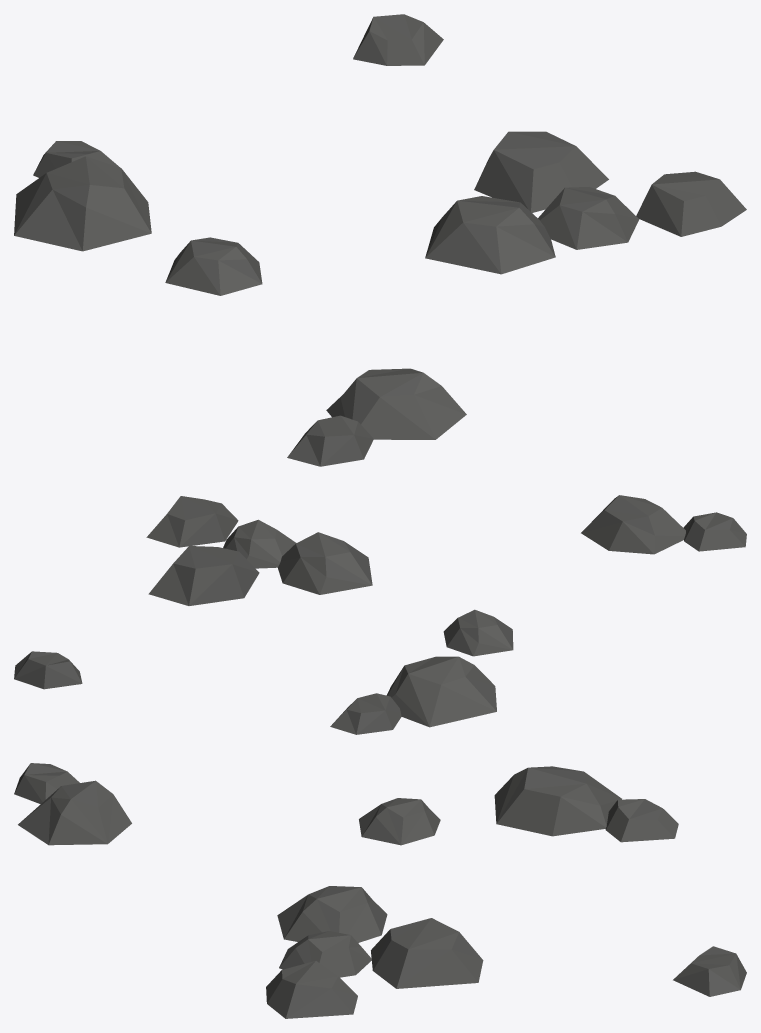
The model's file is SM_Generic_Small_Rocks_01.glb.
3 views of the same model, one above another, from view 1: azimuth 30°, elevation 25°; view 2: azimuth 150°, elevation 25°; view 3: azimuth 270°, elevation 25° (orthographic). The views are drawn at different scales.
Parts seen in each view (by area): view 1: SM_Generic_Small_Rocks_01; view 2: SM_Generic_Small_Rocks_01; view 3: SM_Generic_Small_Rocks_01.
Part boxes in pixels (bbox=[...]): SM_Generic_Small_Rocks_01: bbox=[14, 14, 746, 466]; SM_Generic_Small_Rocks_01: bbox=[14, 495, 746, 734]; SM_Generic_Small_Rocks_01: bbox=[14, 763, 746, 1018].
Bounding box in the file's own units: 1.31 × 0.095 × 1.63.
1 material, 1 textured.
